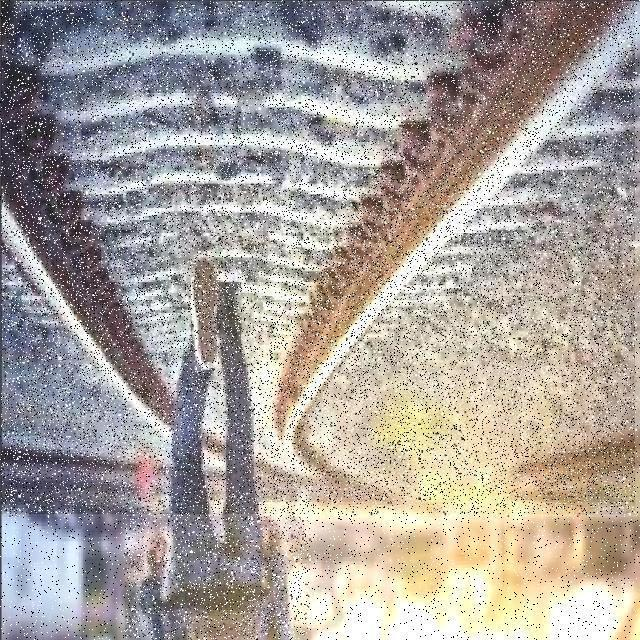rail: (3, 2, 636, 515)
